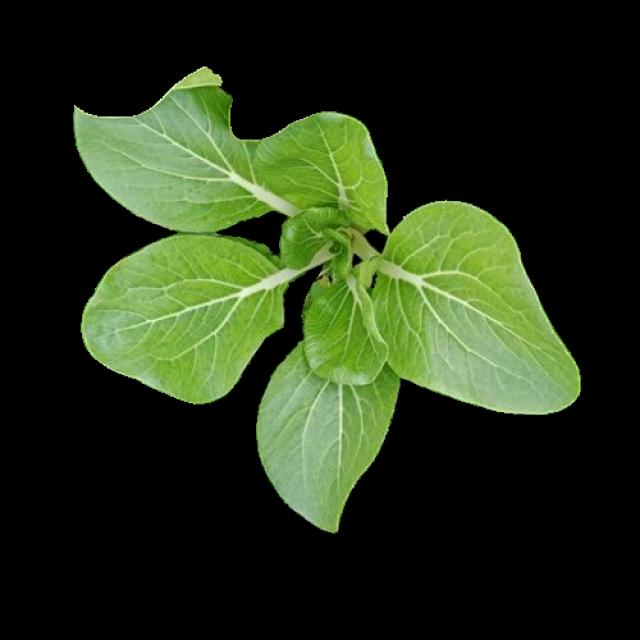not-mature: (76, 79, 567, 525)
unhealthy: (77, 76, 262, 232), (301, 258, 390, 386)
